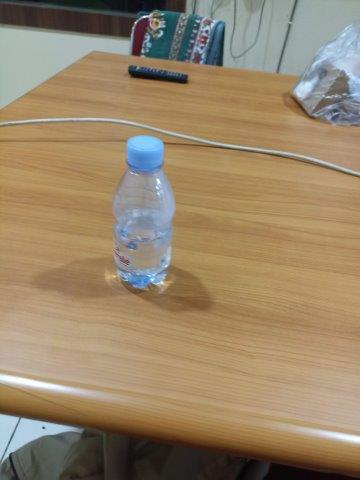botolplastik: (112, 134, 175, 288)
